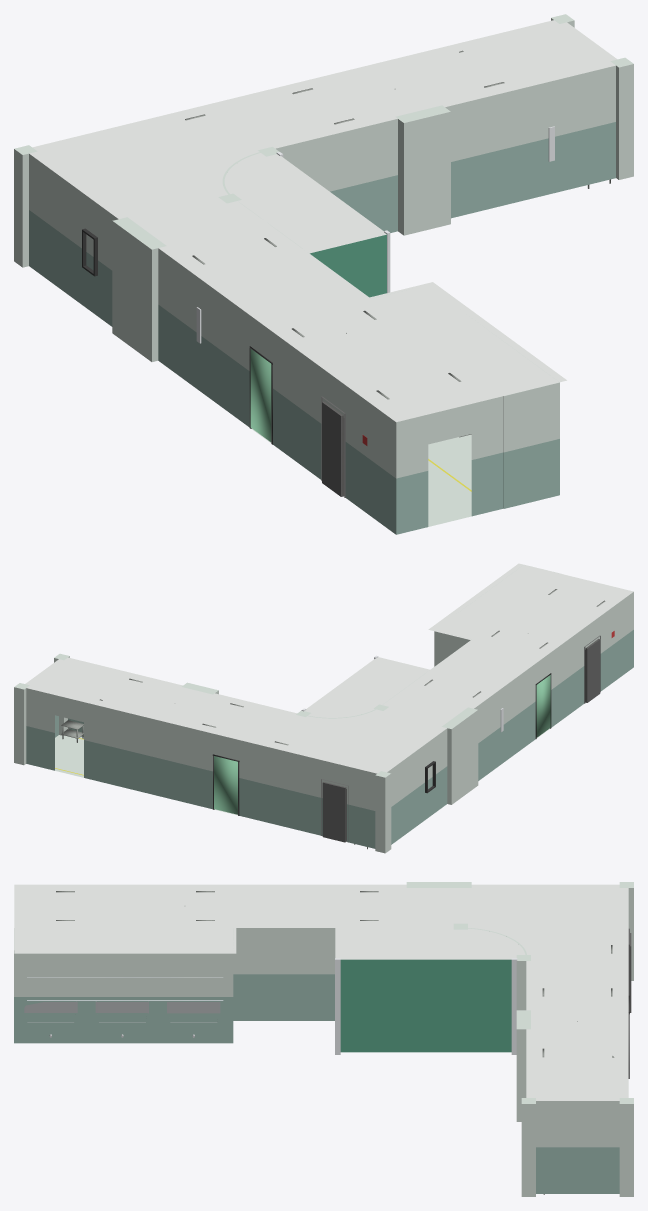
Rendered from pasillo3.fbx.
3 renders of one model, top to bottom at view 1: azimuth 30°, elevation 25°; view 2: azimuth 150°, elevation 25°; view 3: azimuth 270°, elevation 25°, orthographic. The views are drawn at different scales.
Parts seen in each view (by area): view 1: Techo, Pared_SurBrazo_1, Pilares_Curva, Pared_Oeste_3, SalaObs_Techo, Pared_EsteBrazo_1, Pared_SurBrazo_1b, Pared_Oeste_4, Pared_Oeste_1, Pared_Oeste_2, Pared_Sur_A_1, Pared_Sur_A_2 (+7 smaller); view 2: Techo, Pared_Norte_3, Pared_Norte_2, Pilares_Curva, Pared_Oeste_3, SalaObs_Techo, Pared_Oeste_2, Pared_Oeste_1, Pared_Oeste_4, Pared_Norte_1, Pared_Norte_4, Pared_Oeste_3b (+9 smaller); view 3: Techo, Pared_EsteBrazo_1, SalaObs_Pared_Este, Pared_Este, Pilares_Curva, SalaObs_Techo, Lavamanos, Luminaria_Pared_1.003, Luminaria_Pared_1.002.
Part boxes in pixels (bbox=[...]): Techo: bbox=[29, 20, 617, 422]; Pared_SurBrazo_1: bbox=[276, 81, 551, 232]; Pilares_Curva: bbox=[14, 14, 633, 361]; Pared_Oeste_3: bbox=[158, 248, 251, 427]; SalaObs_Techo: bbox=[224, 153, 386, 253]; Pared_EsteBrazo_1: bbox=[309, 253, 559, 508]; Pared_SurBrazo_1b: bbox=[551, 67, 609, 193]; Pared_Oeste_4: bbox=[29, 154, 85, 307]; Pared_Oeste_1: bbox=[344, 384, 396, 534]; Pared_Oeste_2: bbox=[272, 331, 323, 479]; Pared_Sur_A_1: bbox=[396, 414, 428, 534]; Pared_Sur_A_2: bbox=[471, 396, 503, 516]; Techo: bbox=[25, 563, 633, 773]; Pared_Norte_3: bbox=[84, 702, 214, 809]; Pared_Norte_2: bbox=[238, 740, 322, 835]; Pilares_Curva: bbox=[14, 653, 478, 853]; Pared_Oeste_3: bbox=[474, 663, 536, 780]; SalaObs_Techo: bbox=[304, 657, 430, 717]; Pared_Oeste_2: bbox=[550, 627, 585, 727]; Pared_Oeste_1: bbox=[599, 592, 633, 691]; Pared_Oeste_4: bbox=[387, 745, 424, 844]; Pared_Norte_1: bbox=[347, 766, 376, 848]; Pared_Norte_4: bbox=[26, 688, 54, 770]; Pared_Oeste_3b: bbox=[425, 728, 447, 819]; Techo: bbox=[14, 884, 628, 1100]; Pared_EsteBrazo_1: bbox=[14, 928, 335, 1043]; SalaObs_Pared_Este: bbox=[340, 959, 511, 1052]; Pared_Este: bbox=[536, 1101, 619, 1193]; Pilares_Curva: bbox=[406, 882, 633, 1196]; SalaObs_Techo: bbox=[335, 928, 525, 959]; Lavamanos: bbox=[24, 1001, 220, 1037]; Luminaria_Pared_1.003: bbox=[511, 958, 517, 1054]; Luminaria_Pared_1.002: bbox=[335, 958, 340, 1054].
Size of the model in its own units: 1539 by 320 by 1816.
